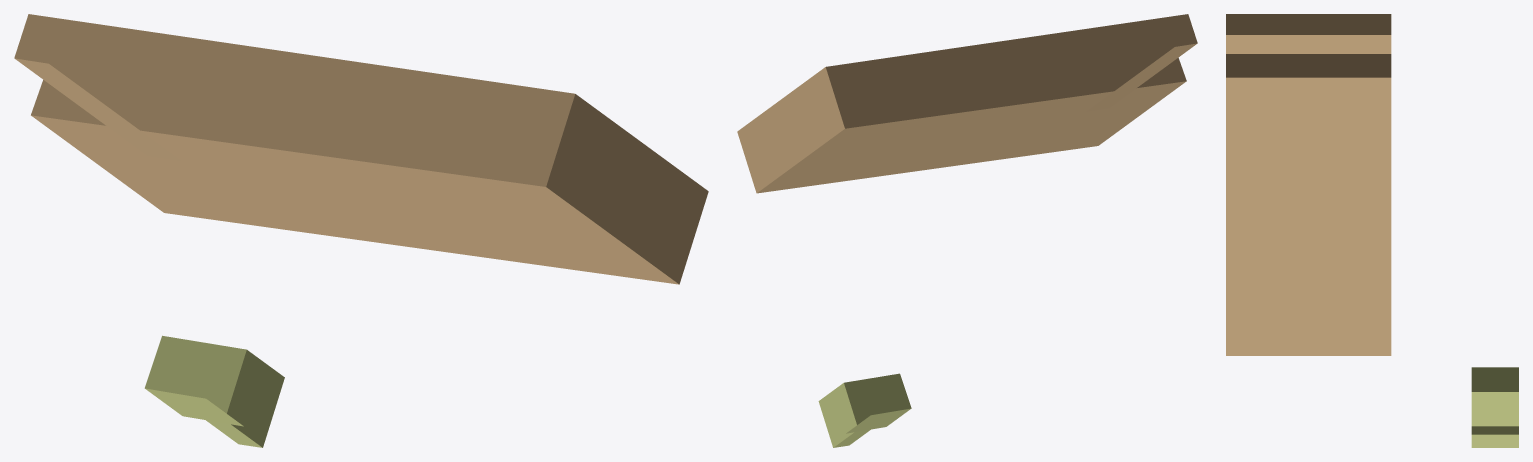
3 renders of one model, left to right at view 1: azimuth 30°, elevation 25°; view 2: azimuth 150°, elevation 25°; view 3: azimuth 270°, elevation 25°, orthographic. The views are drawn at different scales.
Parts seen in each view (by area): view 1: 0_0_1_3_1_1_3_1_2; view 2: 0_0_1_3_1_1_3_1_2; view 3: 0_0_1_3_1_1_3_1_2.
Part boxes in pixels (x1,y1,x2,y2): 0_0_1_3_1_1_3_1_2: (14,14,708,447); 0_0_1_3_1_1_3_1_2: (737,14,1197,447); 0_0_1_3_1_1_3_1_2: (1226,14,1518,447).
Bounding box in the file's own units: 51.01 × 48.16 × 37.2.
